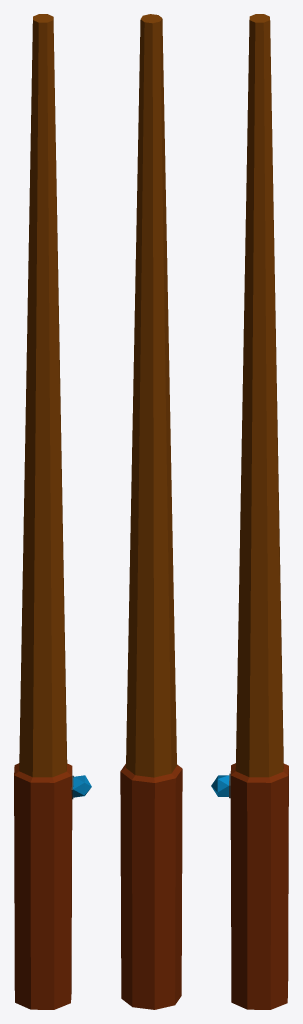
The model's file is Staff3.fbx.
The picture shows the model from 3 angles, left to right: view 1: azimuth 90°, elevation 25°; view 2: azimuth 210°, elevation 25°; view 3: azimuth 270°, elevation 25°; orthographic projection.
Parts seen in each view (by area): view 1: Cylinder.009; view 2: Cylinder.009; view 3: Cylinder.009.
Part boxes in pixels (x1,y1,x2,y2): Cylinder.009: [14, 14, 91, 1009]; Cylinder.009: [120, 14, 182, 1009]; Cylinder.009: [211, 14, 288, 1009].
Size of the model in its own units: 0.0387 by 0.0517 by 0.7167.
